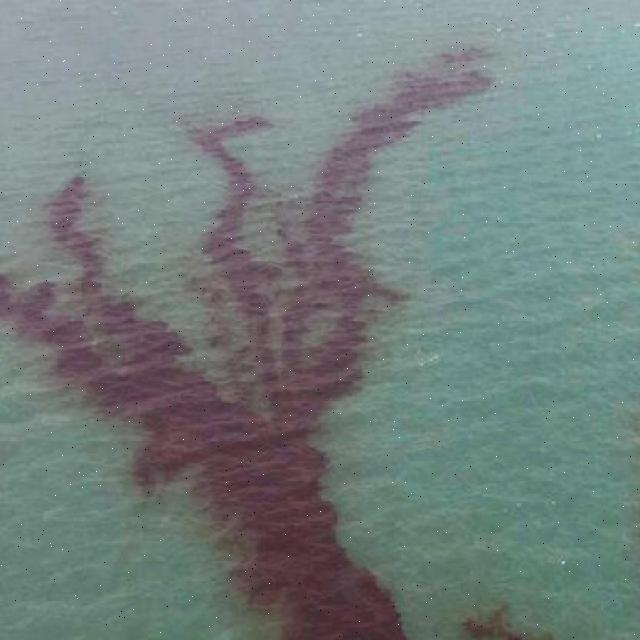truecolor: (195, 80, 417, 433)
